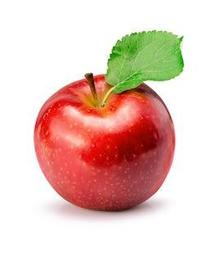apple: (34, 73, 176, 212)
